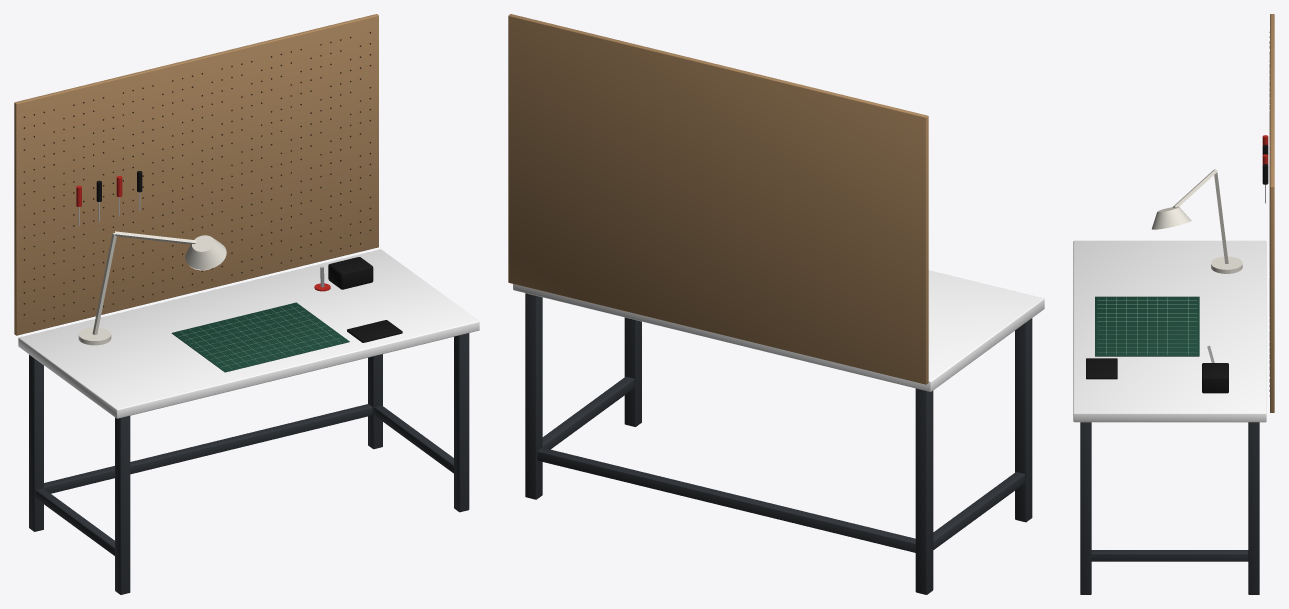
File: workbench.glb
3 views of the same model, side by side, from view 1: azimuth 30°, elevation 25°; view 2: azimuth 150°, elevation 25°; view 3: azimuth 270°, elevation 25° (orthographic). The views are drawn at different scales.
Visible parts, largest first — view 1: workbench_M_Peg, workbench_T_wood, workbench_M_BenchMetal, workbench_M_Mat, workbench_M_LampBody, workbench_M_ToolBlack, workbench_M_PegHole, workbench_M_MatLine; view 2: workbench_M_Peg, workbench_M_BenchMetal, workbench_T_wood; view 3: workbench_T_wood, workbench_M_Mat, workbench_M_BenchMetal, workbench_M_Peg, workbench_M_ToolBlack, workbench_M_LampBody, workbench_M_MatLine, workbench_M_PegHole.
Boxes of the visible parts, box(x1,y1,x2,y2) form: workbench_M_Peg: box(14, 14, 378, 335); workbench_T_wood: box(18, 249, 479, 418); workbench_M_BenchMetal: box(29, 333, 469, 594); workbench_M_Mat: box(171, 302, 349, 372); workbench_M_LampBody: box(78, 231, 226, 345); workbench_M_ToolBlack: box(96, 171, 402, 342); workbench_M_PegHole: box(23, 32, 371, 323); workbench_M_MatLine: box(179, 305, 341, 368); workbench_M_Peg: box(508, 14, 928, 384); workbench_M_BenchMetal: box(525, 293, 1032, 594); workbench_T_wood: box(513, 270, 1044, 391); workbench_T_wood: box(1073, 240, 1266, 422); workbench_M_Mat: box(1095, 296, 1199, 356); workbench_M_BenchMetal: box(1080, 422, 1259, 594); workbench_M_Peg: box(1270, 14, 1274, 412); workbench_M_ToolBlack: box(1086, 144, 1268, 393); workbench_M_LampBody: box(1152, 169, 1242, 273); workbench_M_MatLine: box(1097, 297, 1196, 354); workbench_M_PegHole: box(1269, 32, 1269, 396).
Bounding box in the file's own units: 1.8 × 2 × 0.885.
